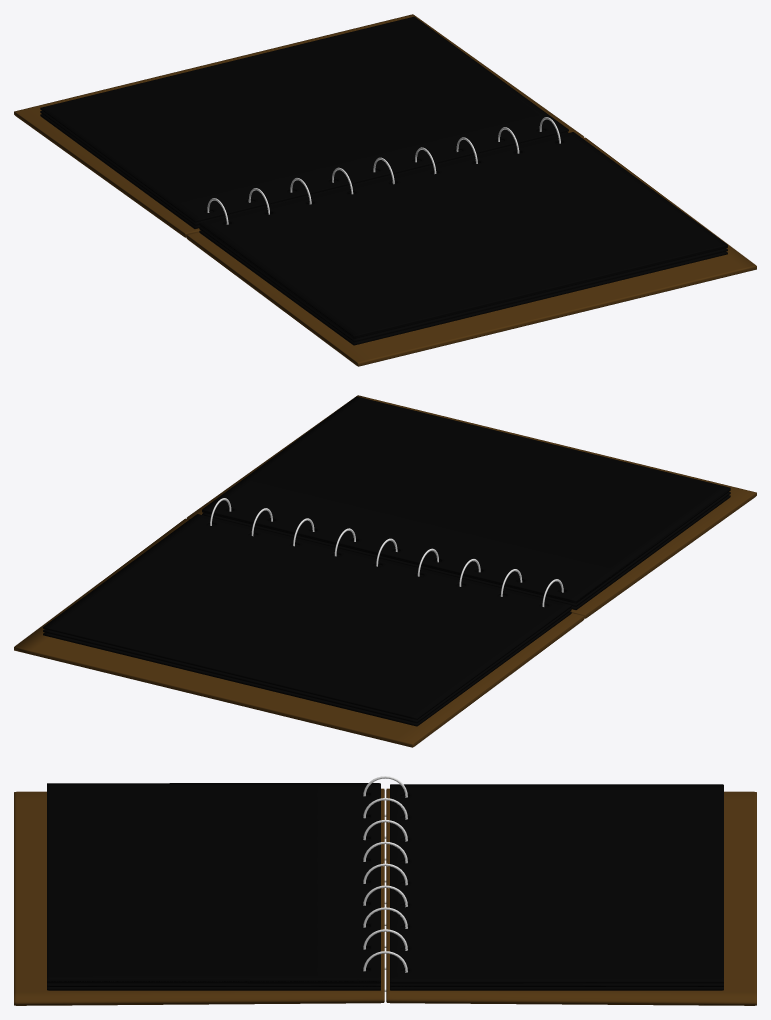
Rendered from Book&Table_2.0_Full.fbx.
3 views of the same model, one above another, from view 1: azimuth 30°, elevation 25°; view 2: azimuth 150°, elevation 25°; view 3: azimuth 270°, elevation 25° (orthographic). The views are drawn at different scales.
Visible parts, largest first — view 1: Page_Fixed, Page3.003, Cover_2, Cover_1, Ring; view 2: Page_Fixed, Page3.003, Cover_1, Cover_2, Ring; view 3: Page_Fixed, Page3.003, Cover_1, Cover_2, Ring.
Boxes of the visible parts, x1,y1,x2,y2 form: Page_Fixed: (40, 16, 727, 345); Page3.003: (199, 132, 727, 337); Cover_2: (186, 137, 756, 366); Cover_1: (14, 14, 584, 237); Ring: (207, 117, 560, 224); Page_Fixed: (43, 489, 730, 726); Page3.003: (202, 396, 730, 602); Cover_1: (14, 518, 584, 747); Cover_2: (186, 395, 756, 618); Ring: (210, 498, 563, 606); Page_Fixed: (47, 784, 723, 990); Page3.003: (47, 783, 380, 982); Cover_1: (386, 788, 756, 1005); Cover_2: (14, 788, 384, 1005); Ring: (363, 776, 407, 991).
Size of what is drawn, in the model's own units: 189 by 17.03 by 282.
